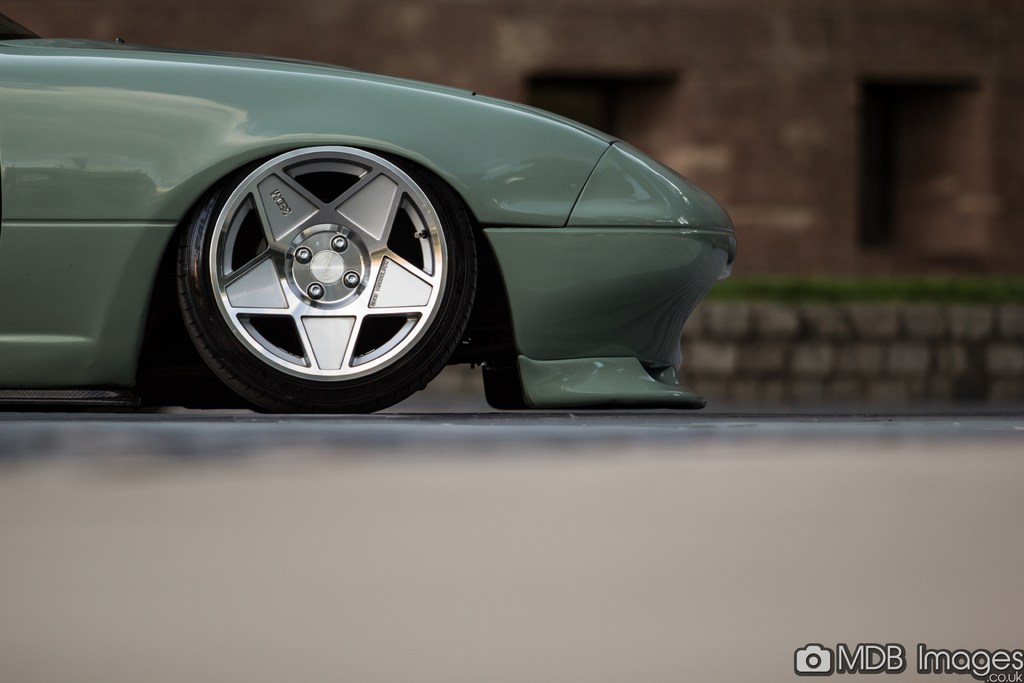Car: (0, 26, 741, 409)
